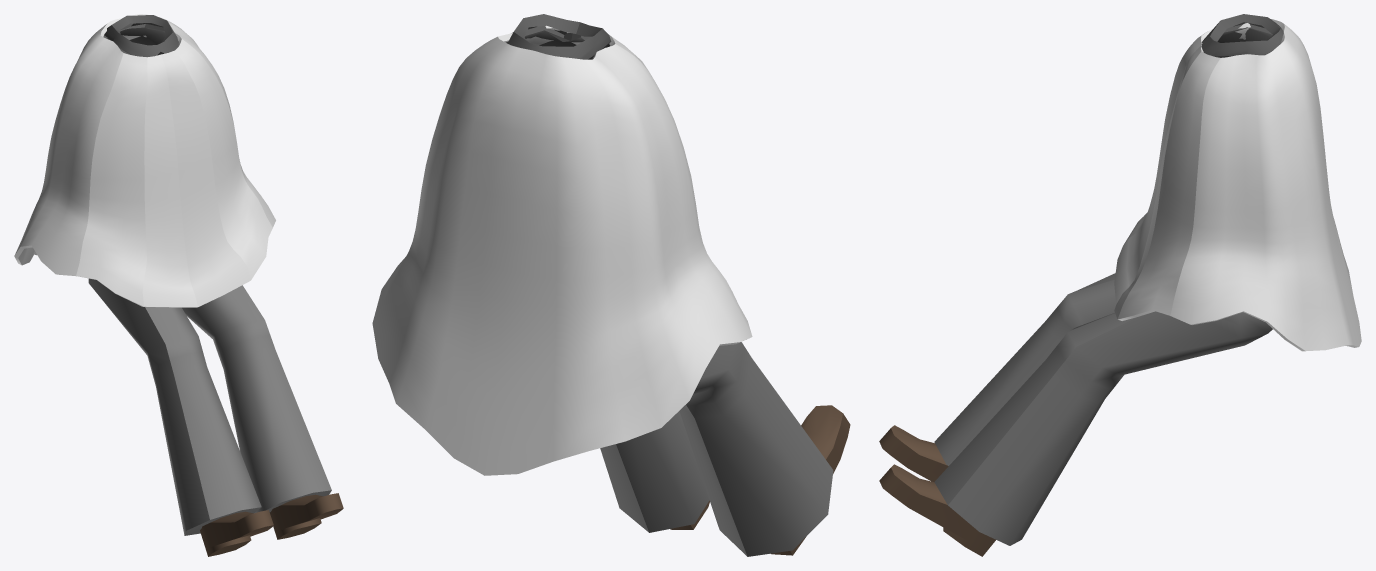
The model's file is Cliente_base.fbx.
The picture shows the model from 3 angles, left to right: view 1: azimuth 30°, elevation 25°; view 2: azimuth 150°, elevation 25°; view 3: azimuth 270°, elevation 25°; orthographic projection. The views are drawn at different scales.
Parts seen in each view (by area): view 1: Cliente_body; view 2: Cliente_body; view 3: Cliente_body.
Part boxes in pixels (x1,y1,x2,y2): Cliente_body: (14,14,343,556); Cliente_body: (372,14,850,556); Cliente_body: (879,14,1361,556).
Bounding box in the file's own units: 0.8437 × 1.55 × 1.35.
